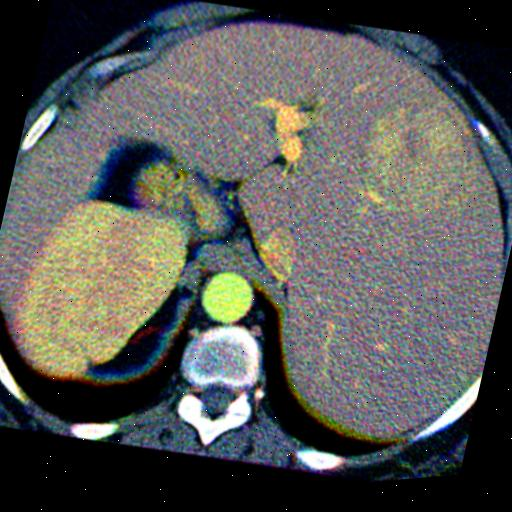Tumor: (368, 114, 464, 210)
